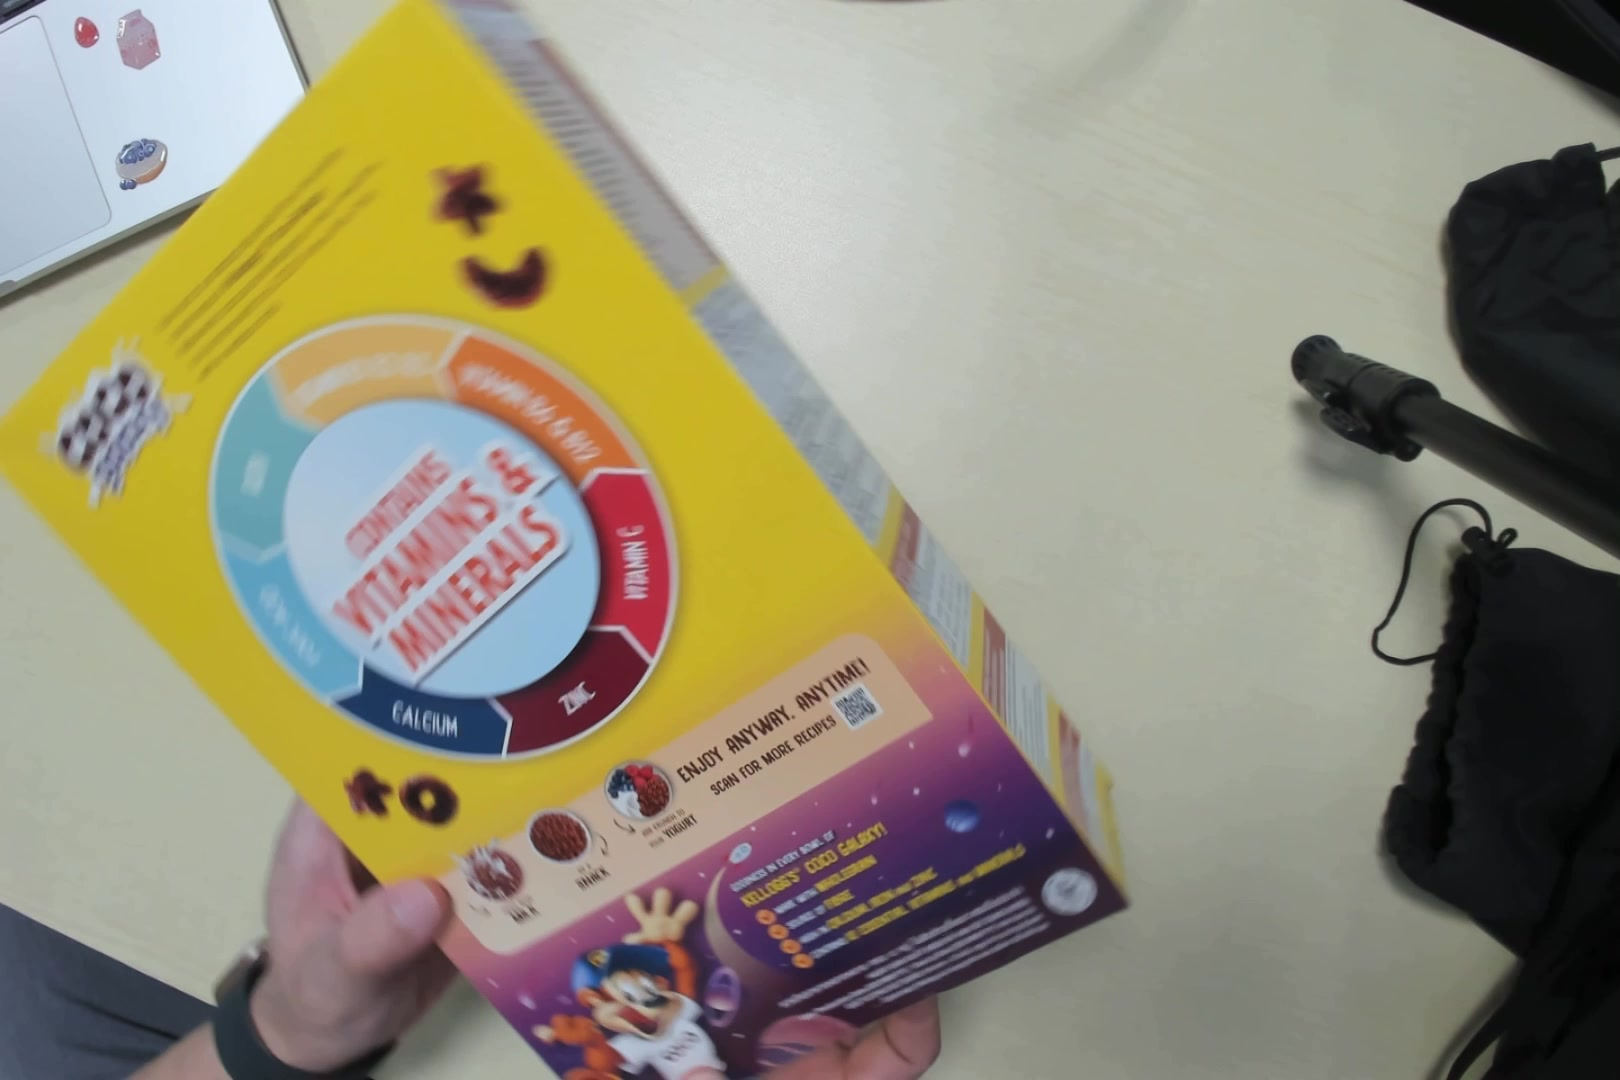BreakfastCereals_300-399g_Halal_NonHealthy: (1, 1, 1128, 1078)
